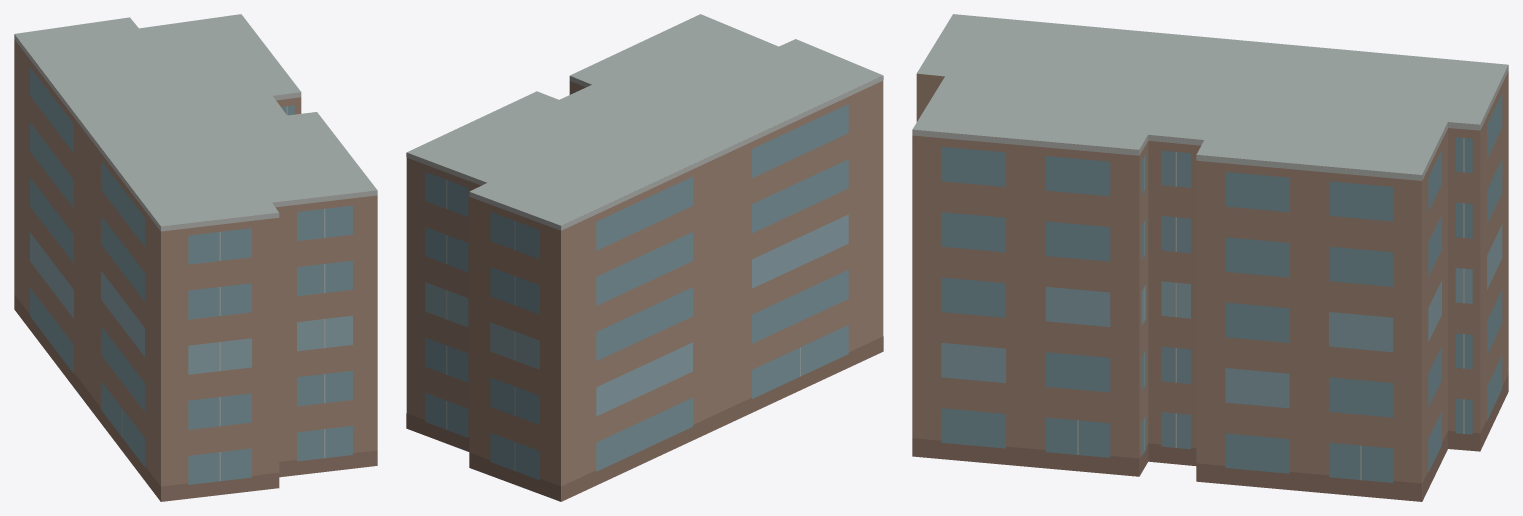
The model's file is survey-upis-32925940.glb.
The picture shows the model from 3 angles, left to right: view 1: azimuth 30°, elevation 25°; view 2: azimuth 150°, elevation 25°; view 3: azimuth 270°, elevation 25°; orthographic projection. The views are drawn at different scales.
Parts seen in each view (by area): view 1: survey-upis-32925940.tmp; view 2: survey-upis-32925940.tmp; view 3: survey-upis-32925940.tmp.
Boxes of the visible parts, x1,y1,x2,y2 form: survey-upis-32925940.tmp: (14,14,377,501); survey-upis-32925940.tmp: (406,14,883,501); survey-upis-32925940.tmp: (912,14,1508,501).
Size of the model in its own units: 14.17 by 13.4 by 22.17.
